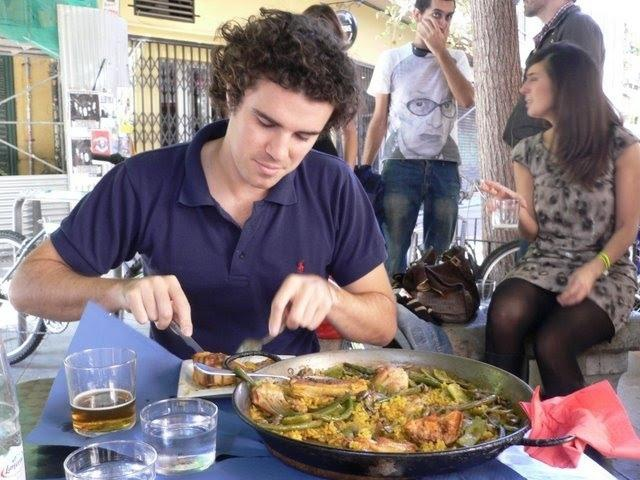non-vehicle: (409, 172, 521, 303)
